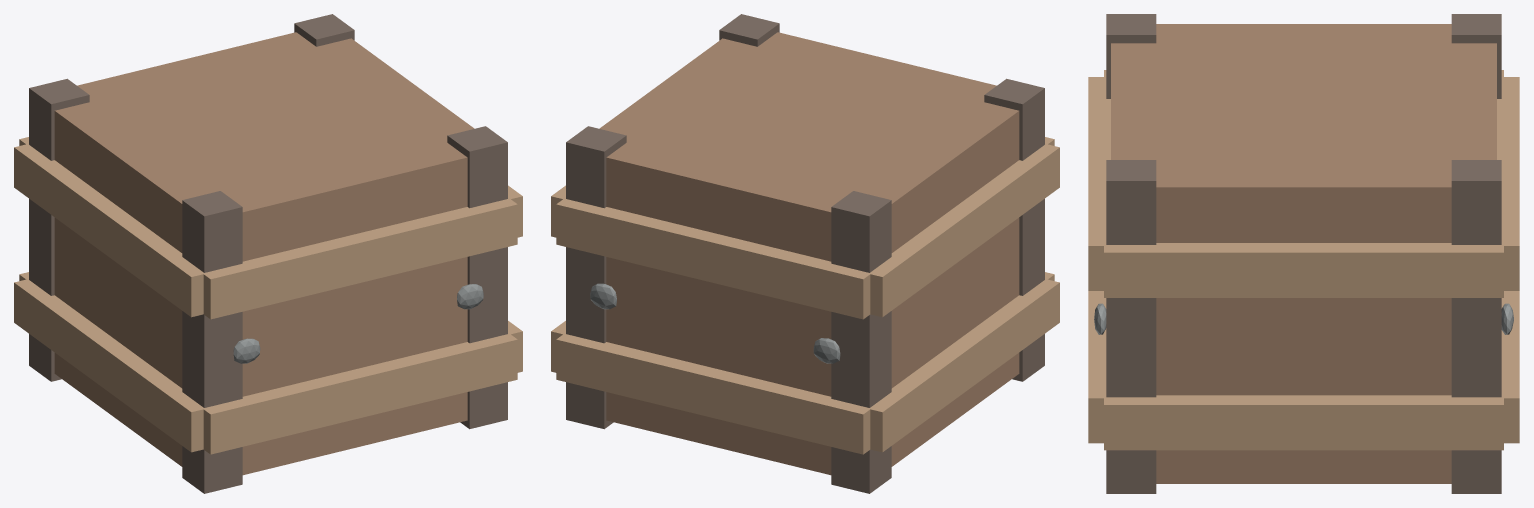
File: crate_wood.glb
3 renders of one model, left to right at view 1: azimuth 30°, elevation 25°; view 2: azimuth 150°, elevation 25°; view 3: azimuth 270°, elevation 25°, orthographic. The views are drawn at different scales.
Parts seen in each view (by area): view 1: crate_wood_wood, crate_wood_wood_light, crate_wood_wood_dark, crate_wood_iron; view 2: crate_wood_wood, crate_wood_wood_light, crate_wood_wood_dark, crate_wood_iron; view 3: crate_wood_wood, crate_wood_wood_light, crate_wood_wood_dark, crate_wood_iron.
Boxes of the visible parts, x1,y1,x2,y2 form: crate_wood_wood: [54, 32, 474, 475]; crate_wood_wood_light: [14, 137, 522, 454]; crate_wood_wood_dark: [29, 14, 507, 493]; crate_wood_iron: [233, 284, 483, 363]; crate_wood_wood: [599, 32, 1019, 475]; crate_wood_wood_light: [551, 137, 1059, 454]; crate_wood_wood_dark: [566, 14, 1044, 493]; crate_wood_iron: [590, 283, 840, 363]; crate_wood_wood: [1111, 24, 1496, 483]; crate_wood_wood_light: [1088, 70, 1519, 450]; crate_wood_wood_dark: [1106, 14, 1501, 493]; crate_wood_iron: [1094, 303, 1513, 334].
Bounding box in the file's own units: 0.95 × 0.76 × 0.95.
